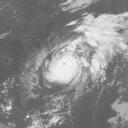cyclone: (45, 52, 81, 84)
